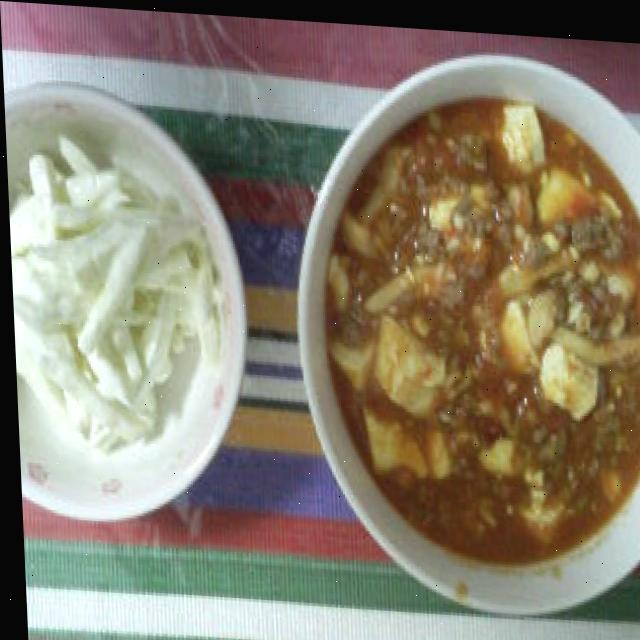豆腐料理: (276, 25, 640, 625)
